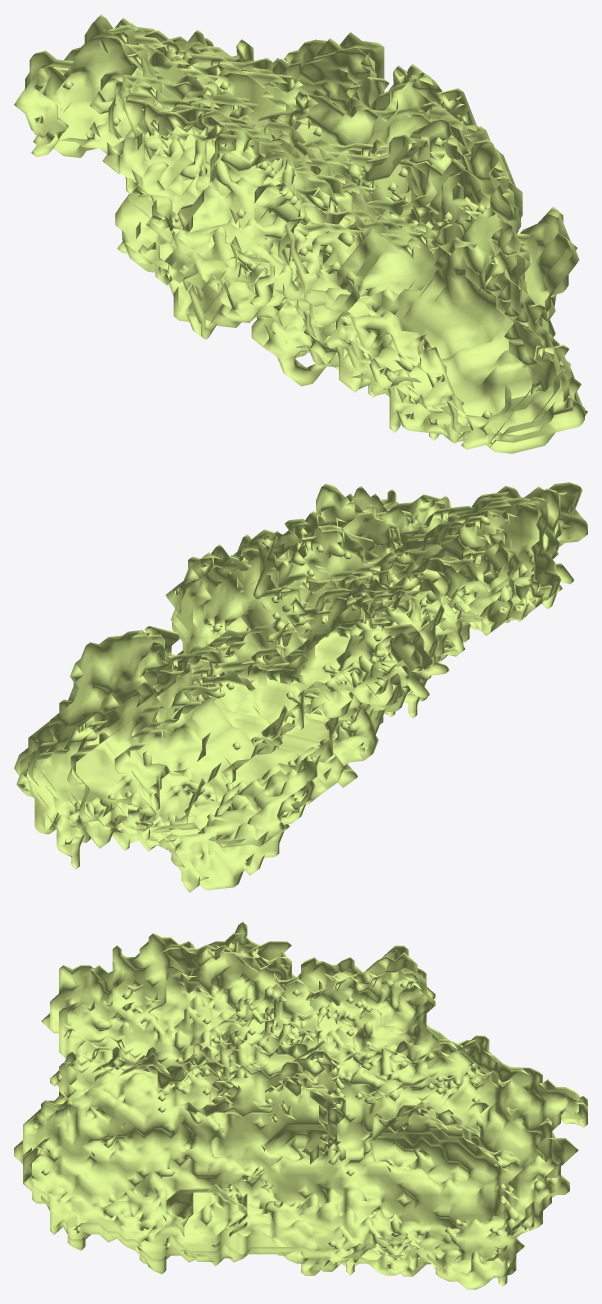
The model's file is osteocyte_169.glb.
The picture shows the model from 3 angles, top to bottom: view 1: azimuth 30°, elevation 25°; view 2: azimuth 150°, elevation 25°; view 3: azimuth 270°, elevation 25°; orthographic projection. The views are drawn at different scales.
Parts seen in each view (by area): view 1: osteocyte_169; view 2: osteocyte_169; view 3: osteocyte_169.
Boxes of the visible parts, x1,y1,x2,y2 form: osteocyte_169: (14, 14, 587, 453); osteocyte_169: (14, 482, 587, 892); osteocyte_169: (14, 921, 587, 1289).
Bounding box in the file's own units: 19.74 × 15.89 × 30.81.
